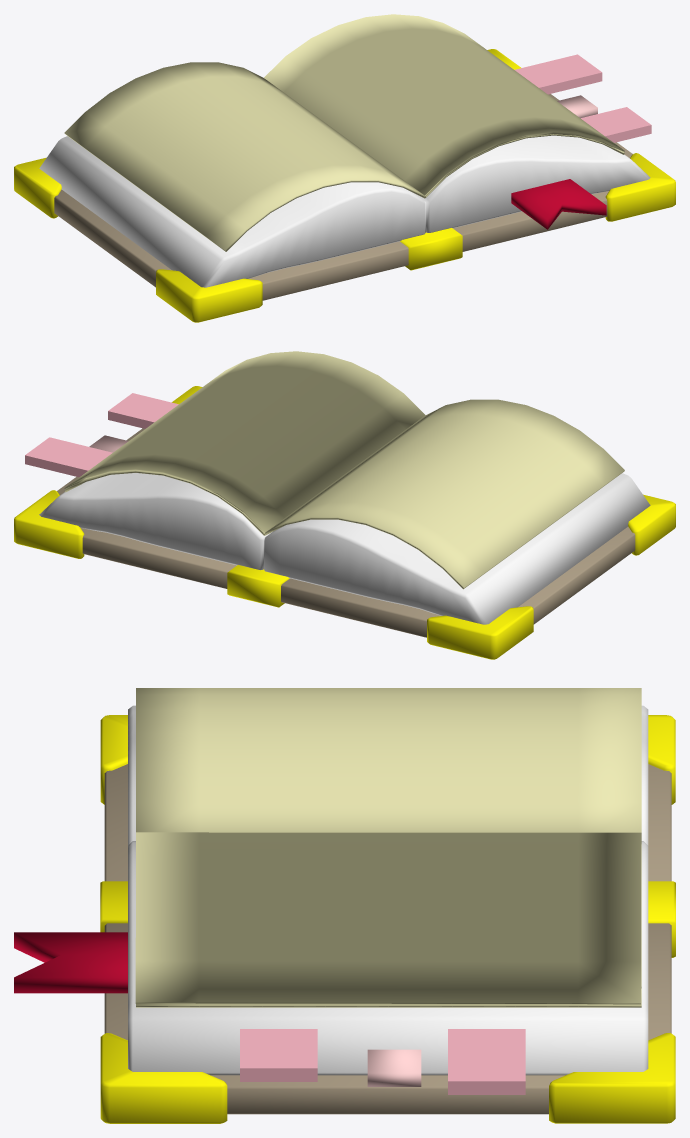
File: dairy.fbx
3 renders of one model, top to bottom at view 1: azimuth 30°, elevation 25°; view 2: azimuth 150°, elevation 25°; view 3: azimuth 270°, elevation 25°, orthographic. The views are drawn at different scales.
Parts seen in each view (by area): view 1: book.001, palypage, start_mark, mark_1, mark2; view 2: book.001, palypage, mark_1, mark2; view 3: book.001, palypage, start_mark, mark_1, mark2.
Boxes of the visible parts, x1,y1,x2,y2 form: book.001: [14, 49, 675, 322]; palypage: [264, 14, 624, 196]; start_mark: [511, 179, 606, 229]; mark_1: [514, 54, 602, 94]; mark2: [581, 107, 651, 142]; book.001: [14, 386, 675, 659]; palypage: [64, 351, 425, 533]; mark_1: [25, 437, 112, 477]; mark2: [108, 393, 178, 428]; book.001: [100, 688, 675, 1123]; palypage: [135, 832, 641, 1004]; start_mark: [14, 932, 127, 993]; mark_1: [448, 1029, 525, 1094]; mark2: [240, 1029, 317, 1081].
Bounding box in the file's own units: 41.09 × 7.42 × 28.89.
